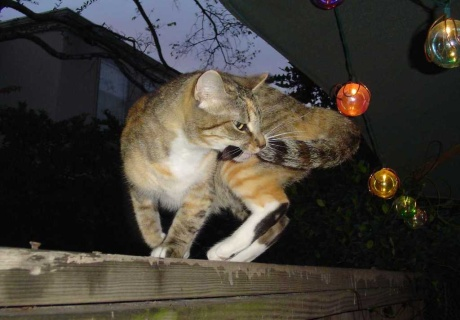Cat: (113, 63, 363, 260)
